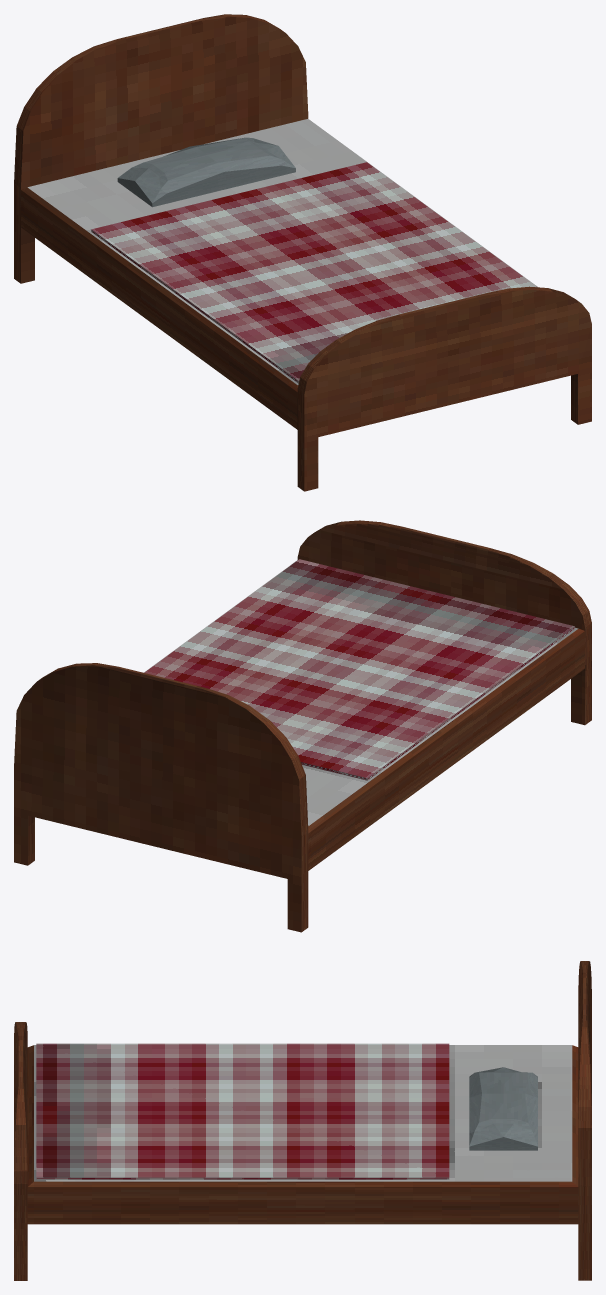
Rendered from bed.glb.
3 views of the same model, one above another, from view 1: azimuth 30°, elevation 25°; view 2: azimuth 150°, elevation 25°; view 3: azimuth 270°, elevation 25° (orthographic).
Parts seen in each view (by area): view 1: Cube.006; view 2: Cube.006; view 3: Cube.006.
Boxes of the visible parts, left/top/right/bottom form: Cube.006: left=14, top=14, right=591, bottom=491; Cube.006: left=14, top=520, right=591, bottom=932; Cube.006: left=14, top=961, right=591, bottom=1280.
Bounding box in the file's own units: 1.2 × 0.866 × 2.1.
1 material, 1 textured.
